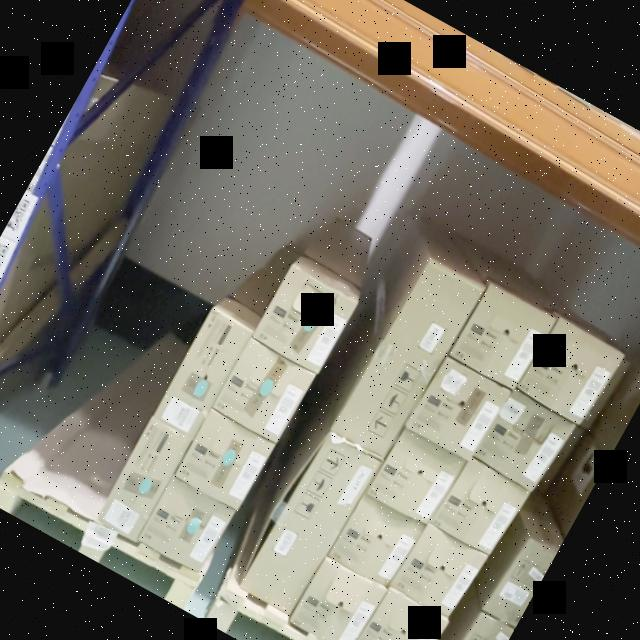box: (333, 259, 483, 448), (246, 434, 376, 612), (154, 310, 252, 438), (97, 418, 192, 542), (406, 358, 510, 463), (213, 338, 316, 444), (254, 267, 356, 372), (520, 320, 620, 422), (453, 286, 552, 389), (175, 412, 272, 510), (474, 391, 570, 490), (434, 459, 526, 555), (392, 524, 484, 618), (330, 496, 422, 589), (140, 478, 232, 571), (370, 432, 460, 525), (291, 562, 381, 640), (490, 541, 556, 627), (358, 590, 442, 640), (441, 612, 513, 640)
